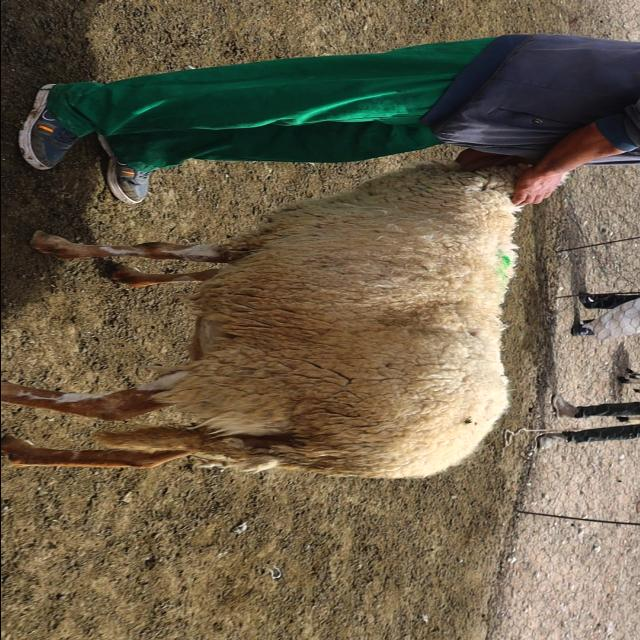Score_3: (1, 155, 526, 478)
